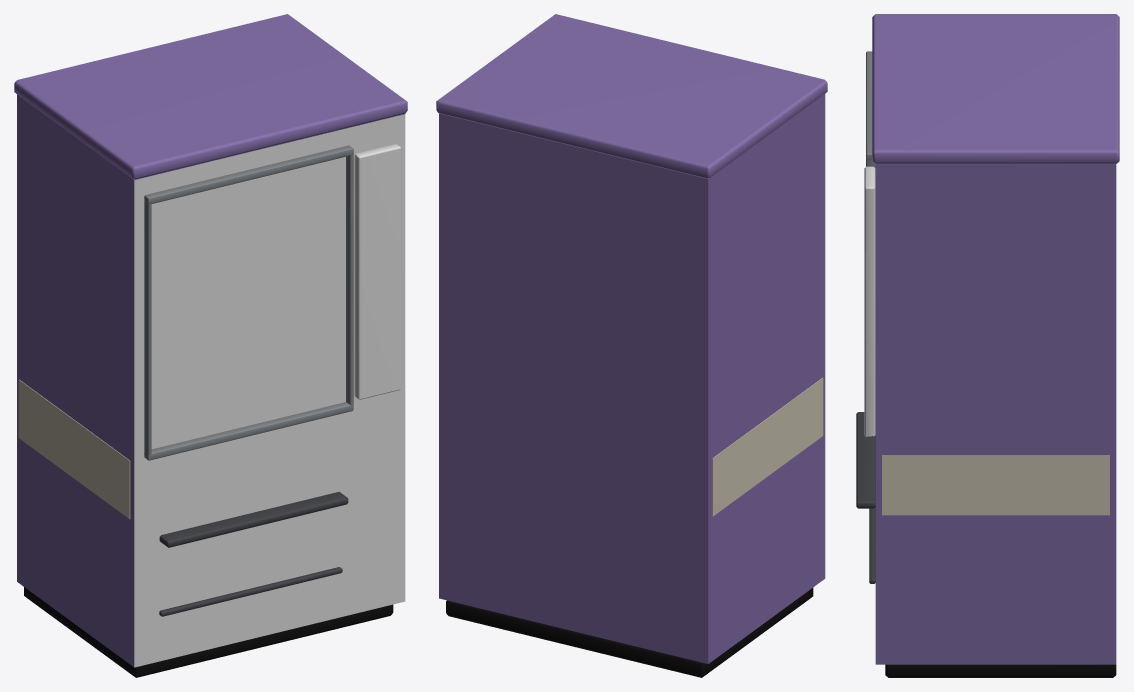
File: VendingKM2.fbx
The picture shows the model from 3 angles, left to right: view 1: azimuth 30°, elevation 25°; view 2: azimuth 150°, elevation 25°; view 3: azimuth 270°, elevation 25°; orthographic projection. The views are drawn at different scales.
Visible parts, largest first — view 1: VendingKM2; view 2: VendingKM2; view 3: VendingKM2.
Boxes of the visible parts, x1,y1,x2,y2 form: VendingKM2: (14, 14, 407, 677); VendingKM2: (436, 14, 827, 677); VendingKM2: (856, 14, 1119, 677).
Size of the model in its own units: 1.02 by 1.83 by 0.82.
